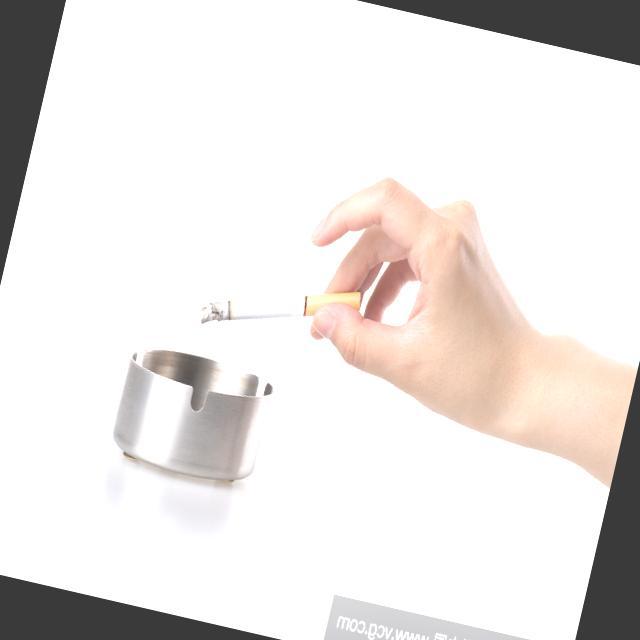smoke: (194, 263, 319, 352)
